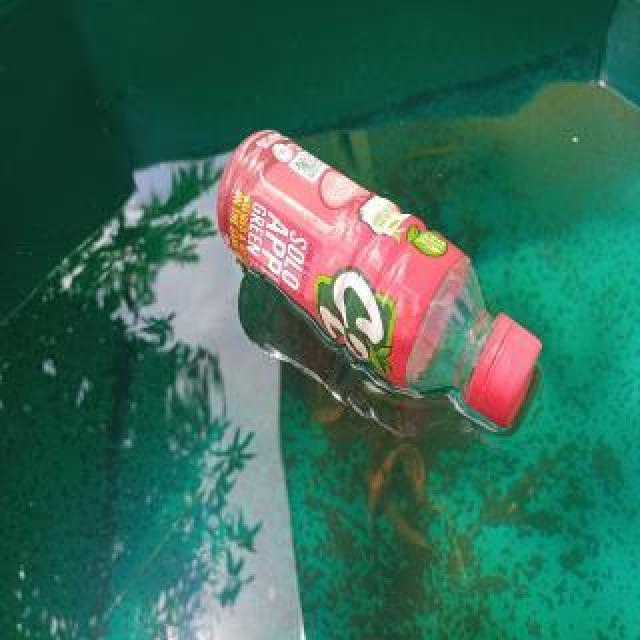bottle: (215, 124, 545, 432)
